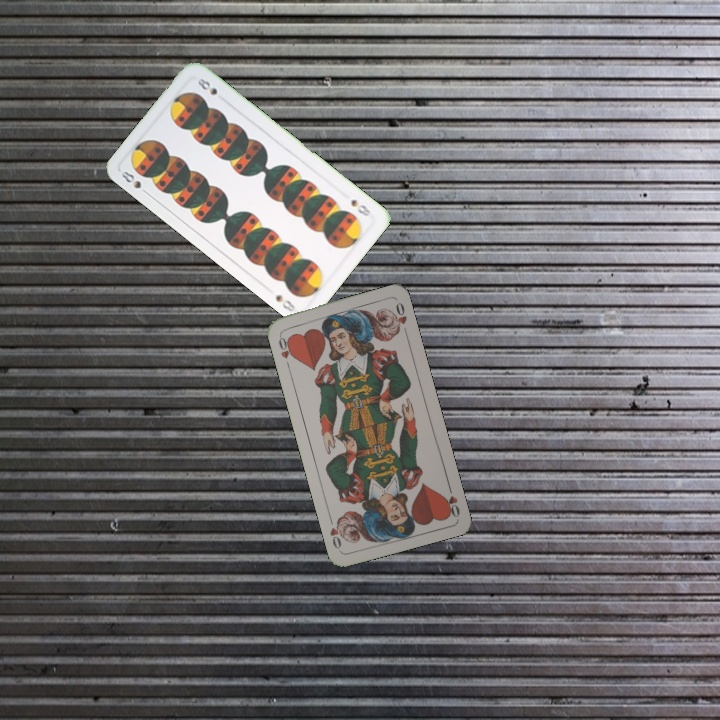HO: (274, 330, 297, 370), (440, 480, 462, 520)
S8: (117, 167, 152, 198), (347, 195, 373, 219)
